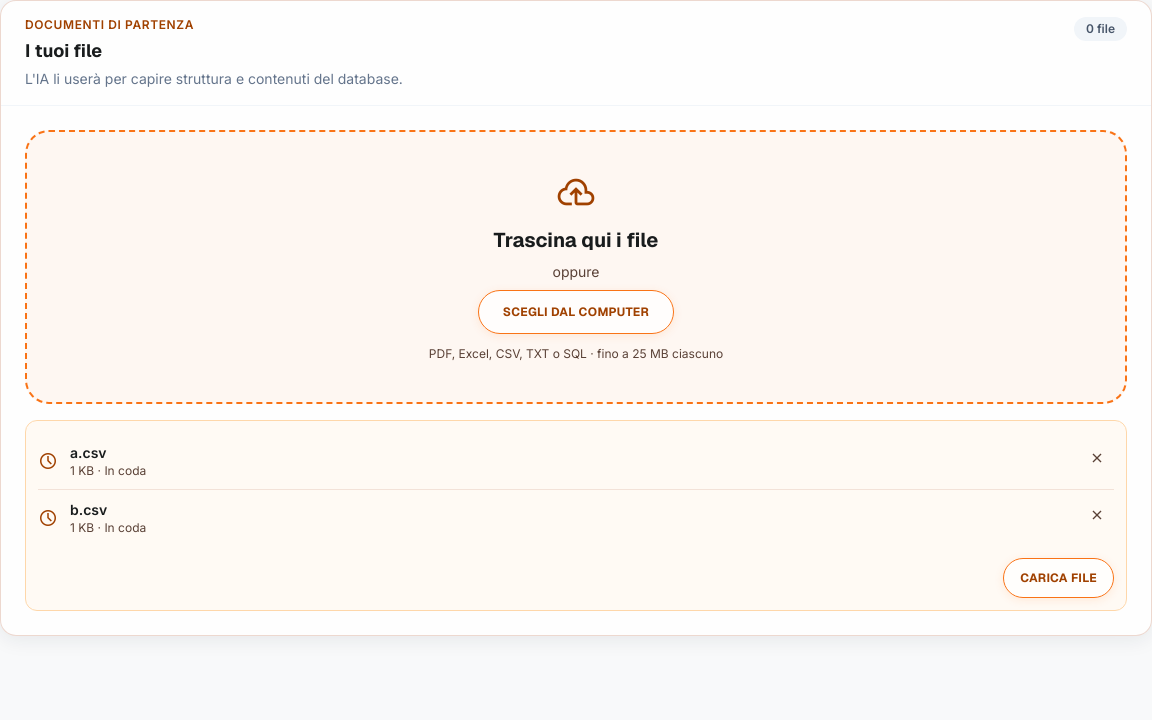
Test: DocumentUploader › coda, stato per file e riprova › carica più file uno alla volta: un errore non ferma gli altri
Earlier steps of the test are not shown.
Check: the text "1 KB · In coda" is shown 2 times, box [70, 463, 146, 478]; [70, 520, 146, 535]
Step 1. Click the button "Carica file" → (1059, 578), box [1003, 558, 1114, 598]
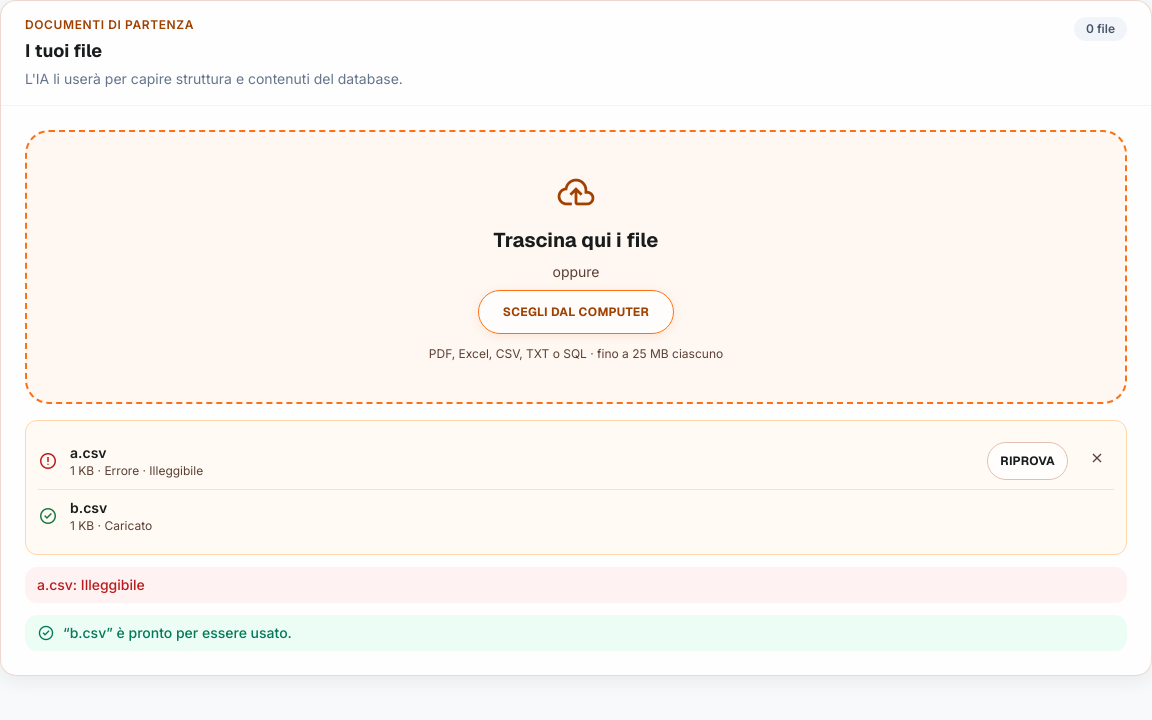
Check: the text "“b.csv” è pronto per essere usato." is shown, box [25, 615, 1127, 651]
Check: the button with aria-label "riprova a caricare a.csv" is shown, box [987, 442, 1068, 480]
